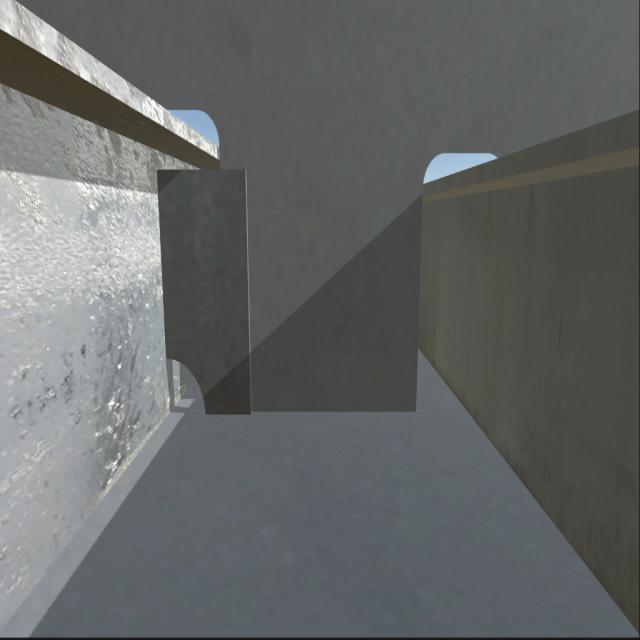fillet_hole: (164, 362, 208, 413)
fillet_yong_jeop_jang: (206, 408, 420, 420)
longi_yong_jeop_jang: (159, 179, 166, 345)
plate_CP01: (164, 172, 246, 407)
